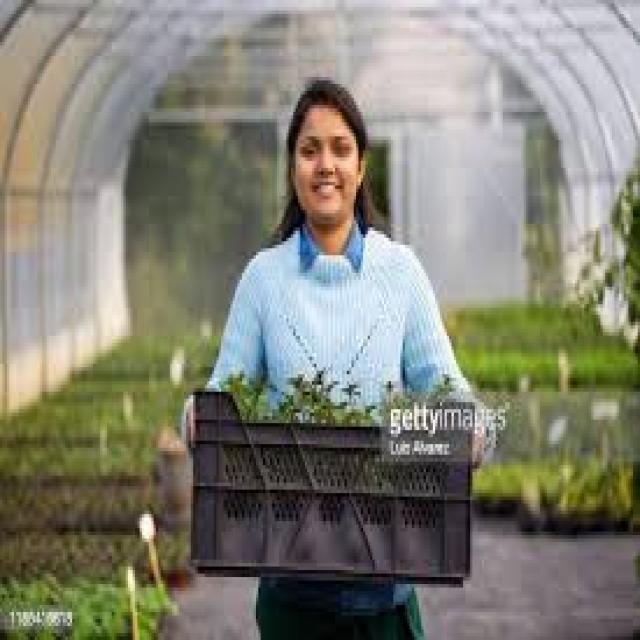basket: (189, 393, 473, 585)
